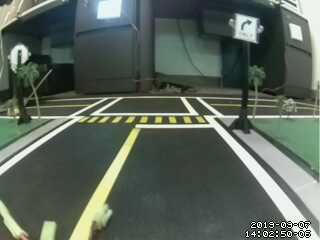Right_only_sign: (235, 12, 261, 45)
